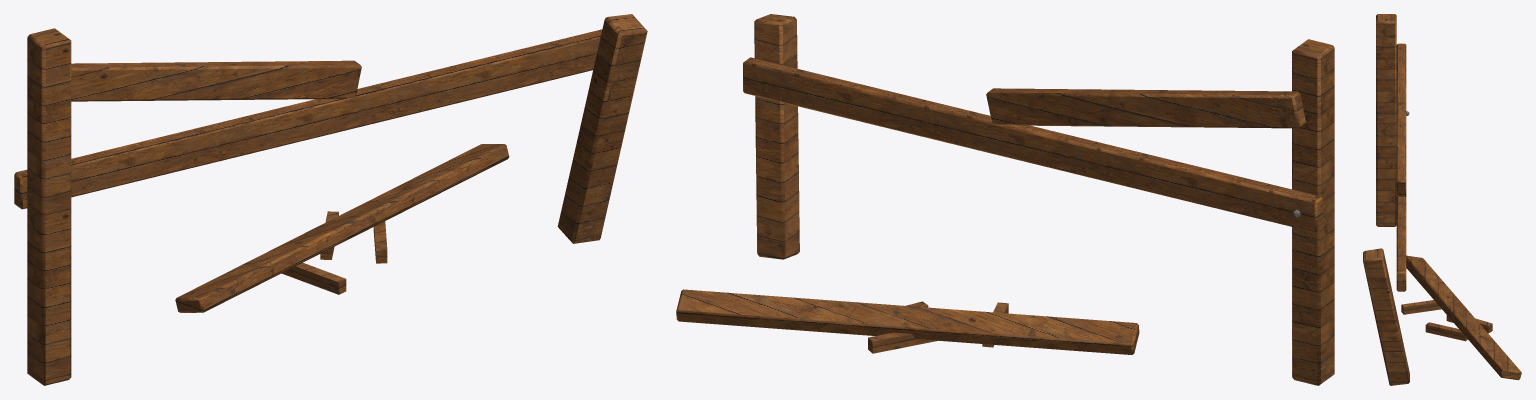
The model's file is broken-fence-v01.glb.
3 renders of one model, left to right at view 1: azimuth 30°, elevation 25°; view 2: azimuth 150°, elevation 25°; view 3: azimuth 270°, elevation 25°, orthographic. The views are drawn at different scales.
Parts seen in each view (by area): view 1: broken-fence; view 2: broken-fence; view 3: broken-fence.
Part boxes in pixels (box(x1,y1,x2,y2)): broken-fence: box(14, 14, 647, 385); broken-fence: box(676, 14, 1334, 385); broken-fence: box(1363, 14, 1521, 385).
Size of the model in its own units: 3.04 by 1.65 by 1.16.
2 materials, 1 textured.
